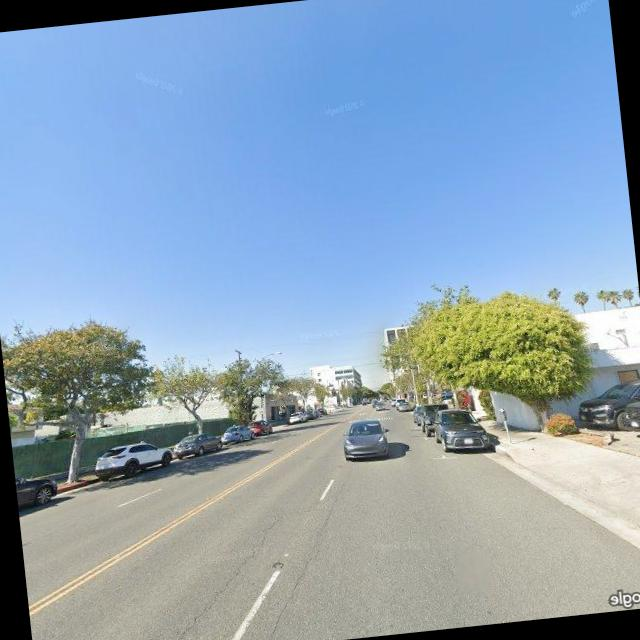pothole: (134, 511, 297, 640)
